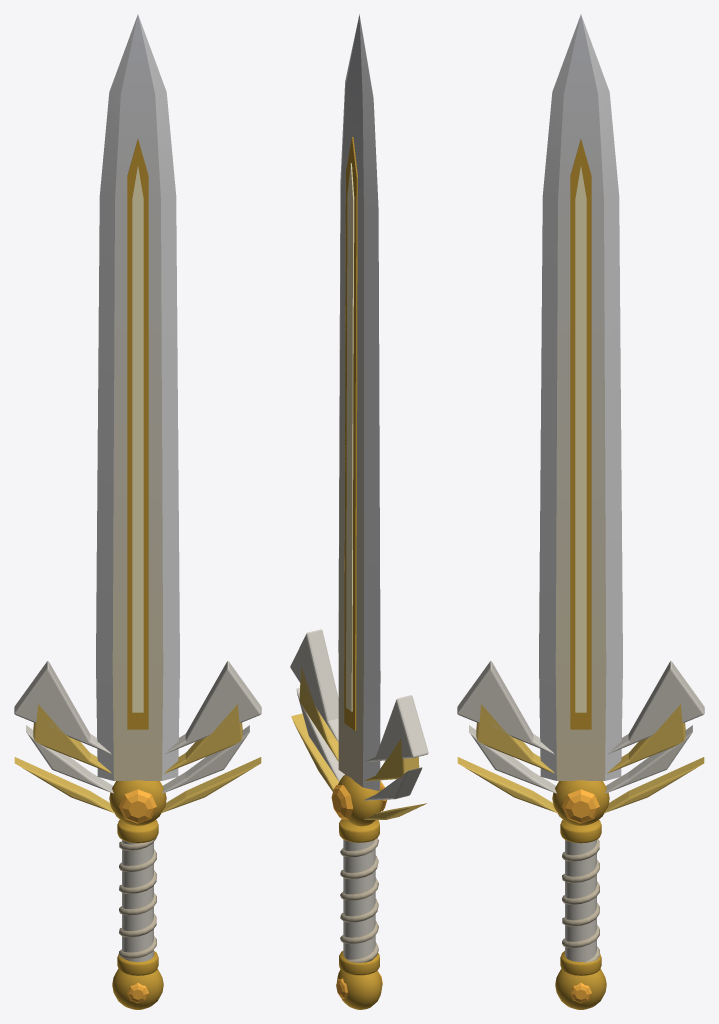
The model's file is sword_holy_avenger.fbx.
3 renders of one model, left to right at view 1: azimuth 90°, elevation 25°; view 2: azimuth 210°, elevation 25°; view 3: azimuth 270°, elevation 25°, orthographic.
Visible parts, largest first — view 1: sword_holy_avenger; view 2: sword_holy_avenger; view 3: sword_holy_avenger.
Boxes of the visible parts, left/top/right/bottom form: sword_holy_avenger: left=14, top=14, right=261, bottom=1009; sword_holy_avenger: left=290, top=14, right=428, bottom=1009; sword_holy_avenger: left=457, top=14, right=704, bottom=1009.
Bounding box in the file's own units: 0.0544 × 1.15 × 0.2583.
